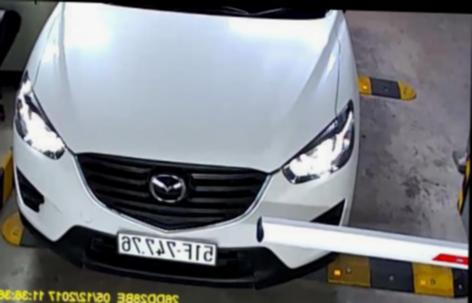License_Plate: (112, 228, 226, 268)
